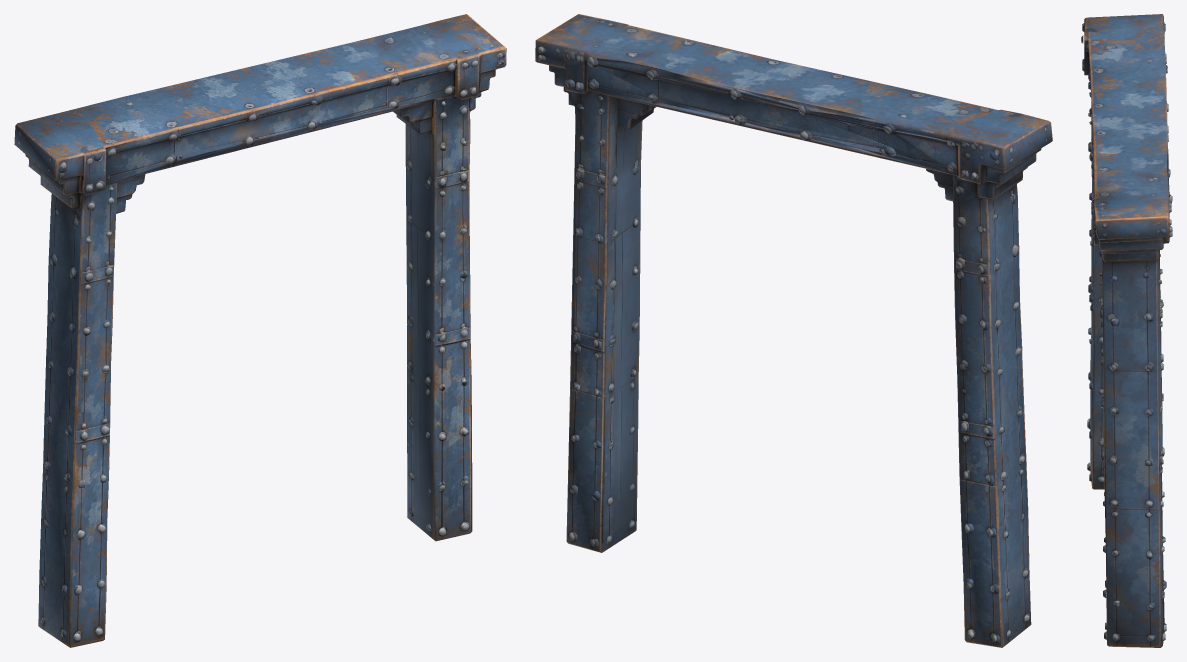
File: frame_iron.glb
The picture shows the model from 3 angles, left to right: view 1: azimuth 30°, elevation 25°; view 2: azimuth 150°, elevation 25°; view 3: azimuth 270°, elevation 25°; orthographic projection. The views are drawn at different scales.
Visible parts, largest first — view 1: tripo_node_142c682c-b2da-4559-b3ff-5352b43d3cda; view 2: tripo_node_142c682c-b2da-4559-b3ff-5352b43d3cda; view 3: tripo_node_142c682c-b2da-4559-b3ff-5352b43d3cda.
Boxes of the visible parts, x1=… form: tripo_node_142c682c-b2da-4559-b3ff-5352b43d3cda: x1=14, y1=14, x2=506, y2=647; tripo_node_142c682c-b2da-4559-b3ff-5352b43d3cda: x1=535, y1=14, x2=1052, y2=647; tripo_node_142c682c-b2da-4559-b3ff-5352b43d3cda: x1=1081, y1=14, x2=1172, y2=647.
Size of the model in its own units: 3.46 by 3.6 by 0.6552.
1 material, 1 textured.
